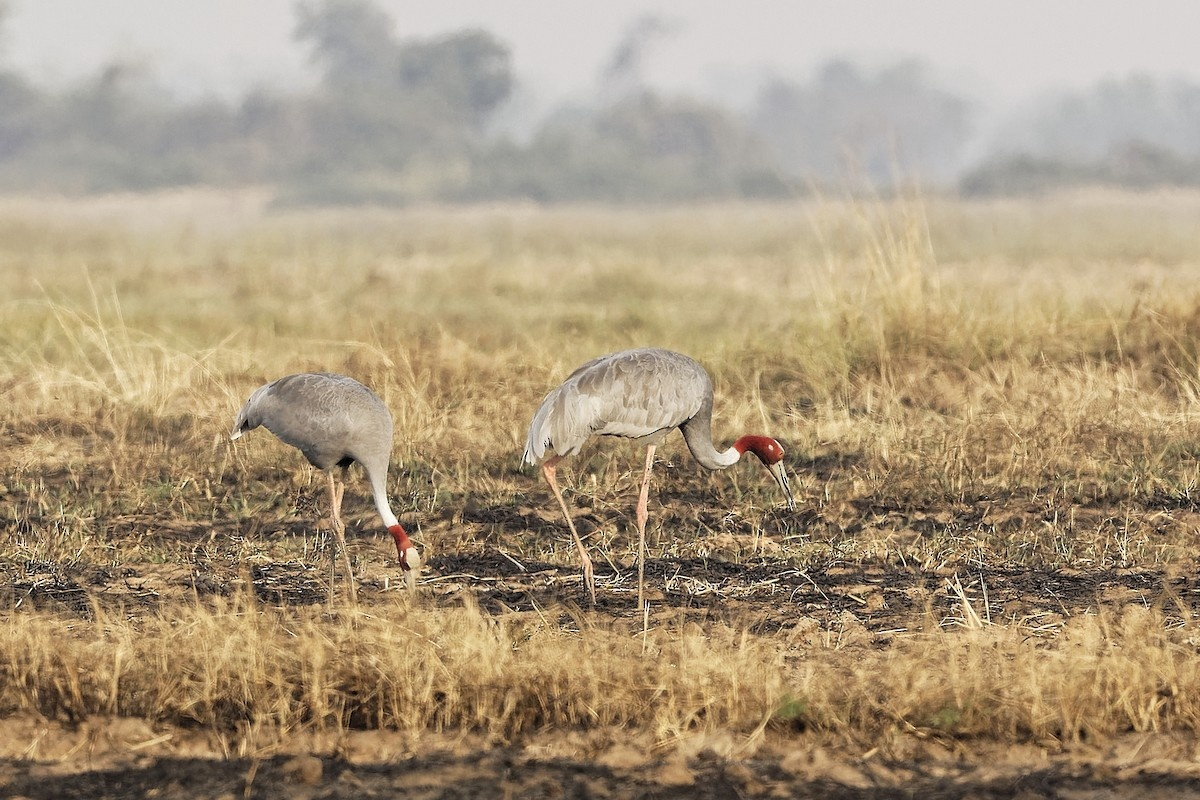crane: (505, 341, 810, 605), (235, 360, 435, 609)
